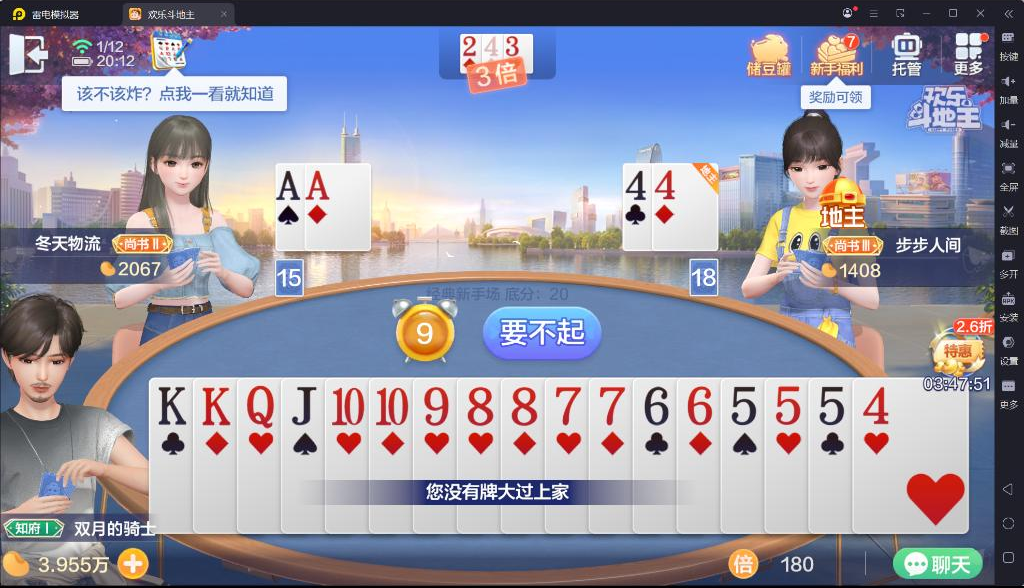A: (276, 168, 302, 203), (306, 168, 332, 203)
J: (289, 382, 322, 428)
K: (152, 383, 189, 429), (201, 383, 232, 429)
Q: (244, 382, 279, 430)
eight: (463, 380, 497, 428), (508, 383, 540, 429)
five: (726, 382, 760, 428), (772, 383, 806, 427), (816, 381, 848, 427)
four: (860, 381, 893, 427), (623, 168, 649, 203), (654, 166, 678, 201), (482, 35, 500, 58)
nine: (420, 381, 452, 428)
seven: (594, 383, 628, 428), (552, 384, 584, 427)
six: (639, 383, 673, 429), (684, 382, 714, 429)
ten: (328, 381, 366, 430), (372, 382, 410, 429)
three: (505, 35, 521, 58)
two: (462, 34, 479, 58)
